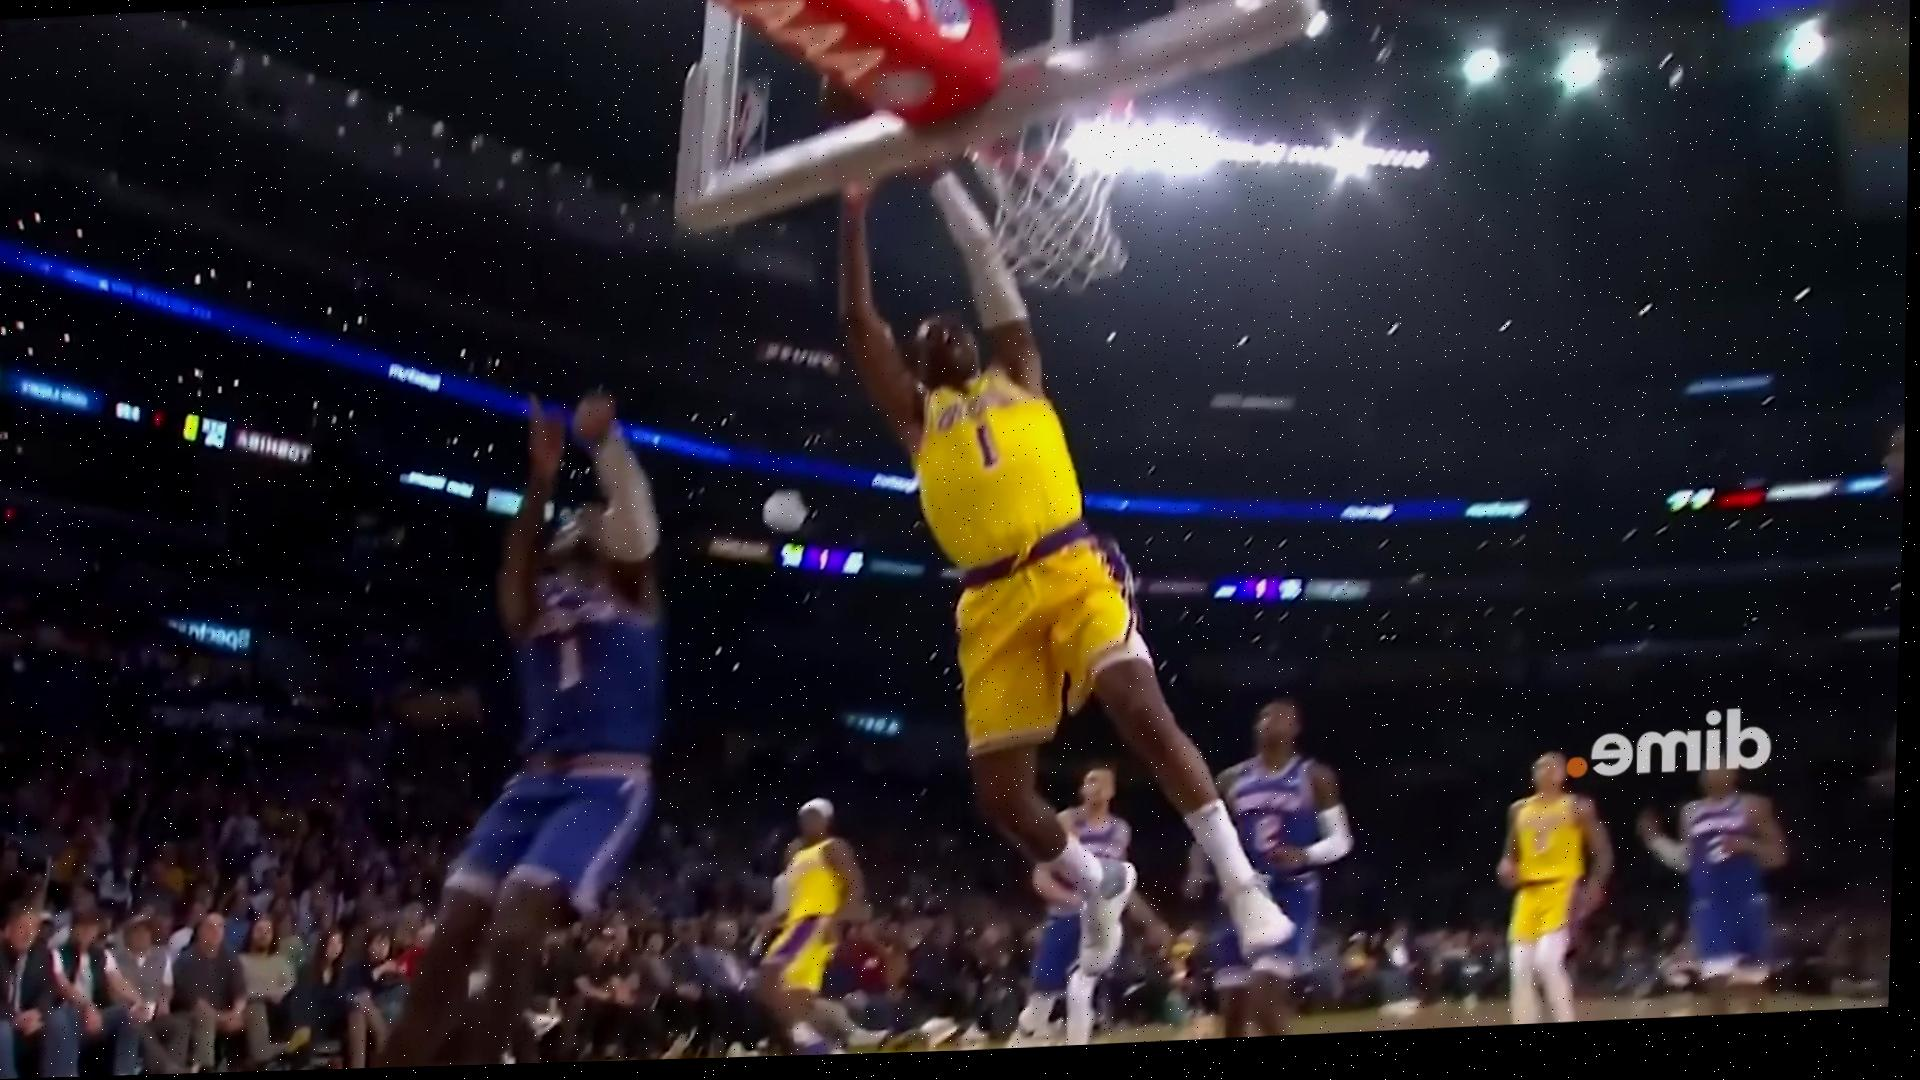no_foul: (349, 225, 1224, 1068)
